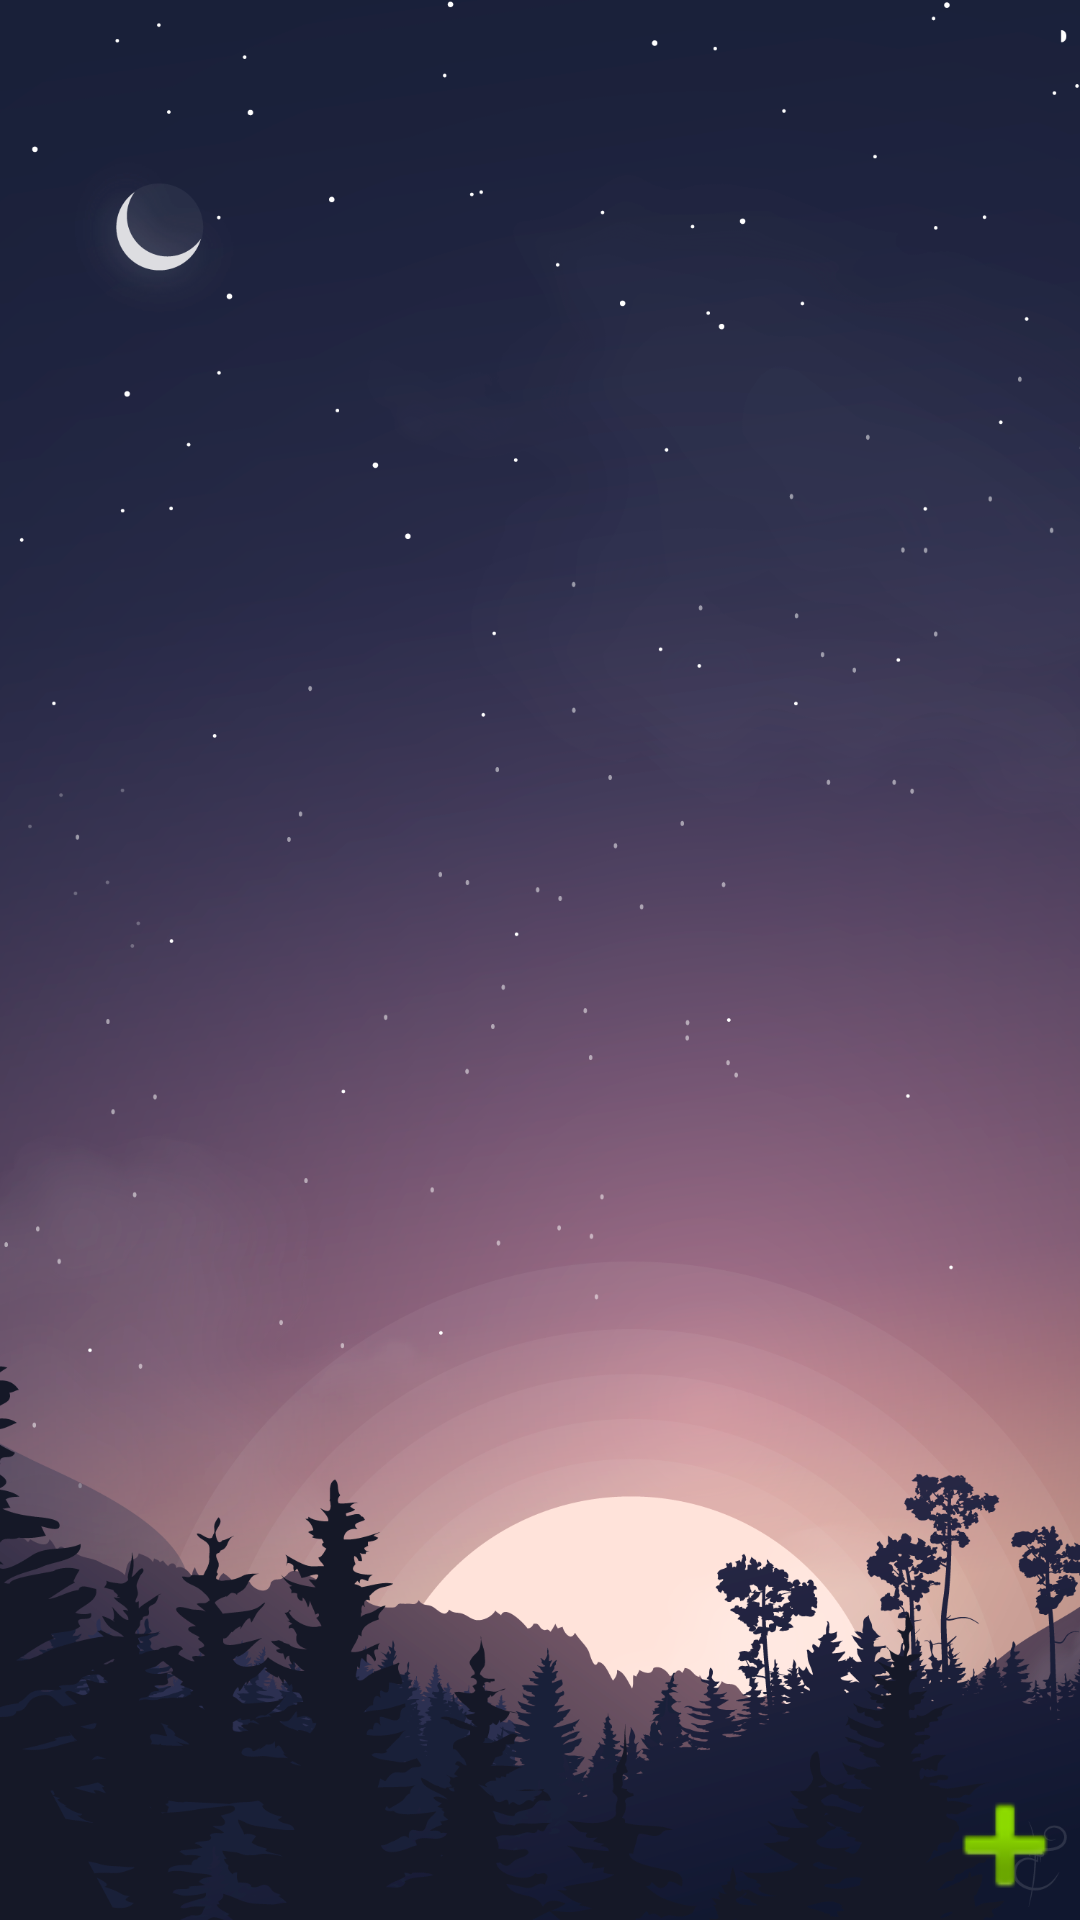

Named icons in this screenshot (1080 × 1920) and their centers, (x,y):
add: (1014,1846)
